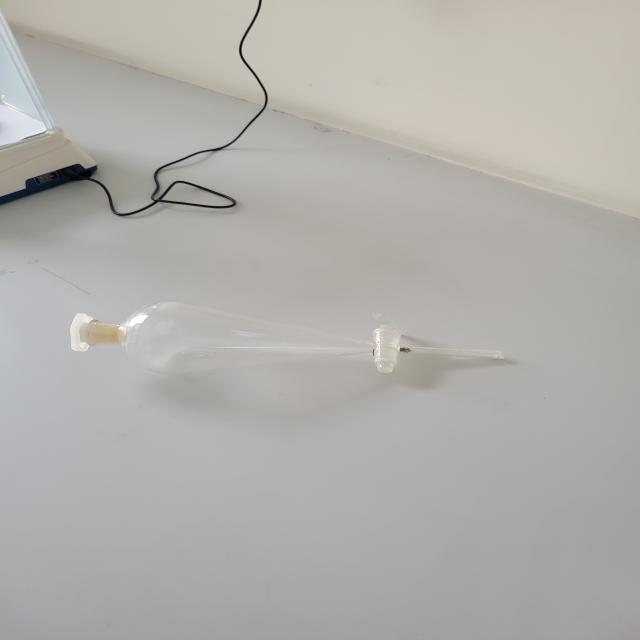Separating_Funnel: (52, 269, 534, 418)
